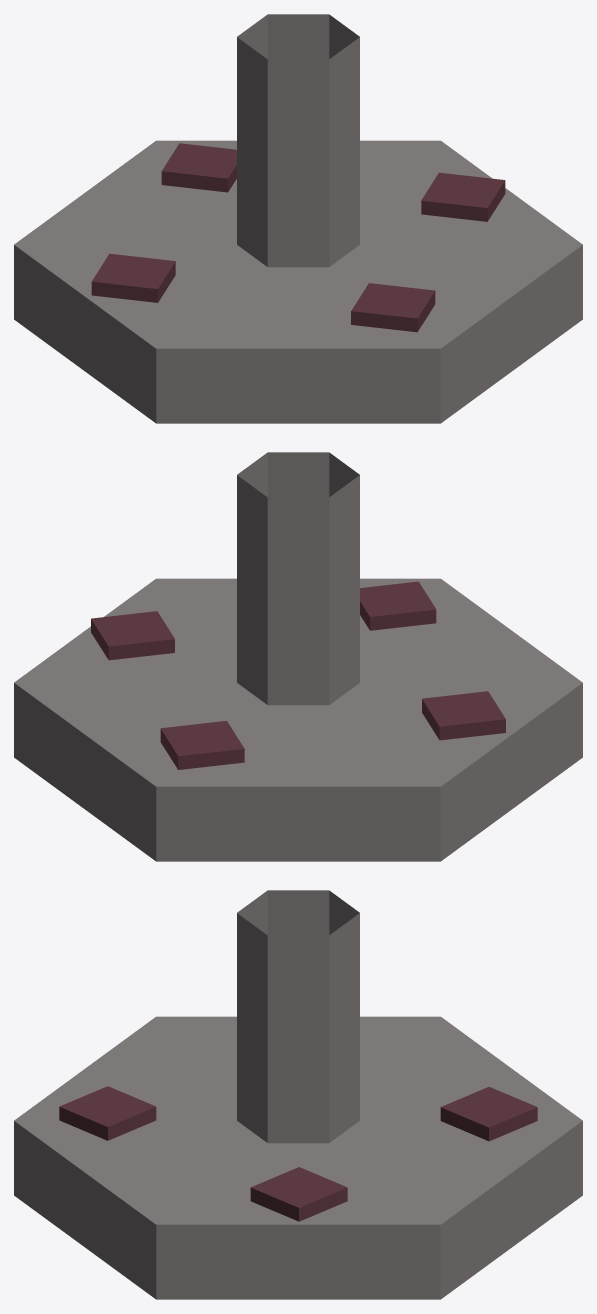
Rendered from Holder.fbx.
3 views of the same model, one above another, from view 1: azimuth 30°, elevation 25°; view 2: azimuth 150°, elevation 25°; view 3: azimuth 270°, elevation 25° (orthographic).
Visible parts, largest first — view 1: souvenir-stall; view 2: souvenir-stall; view 3: souvenir-stall.
Part boxes in pixels (x1,y1,x2,y2): souvenir-stall: (14,14,582,423); souvenir-stall: (14,452,582,861); souvenir-stall: (14,890,582,1299).
Bounding box in the file's own units: 41.12 × 26.02 × 47.48.
